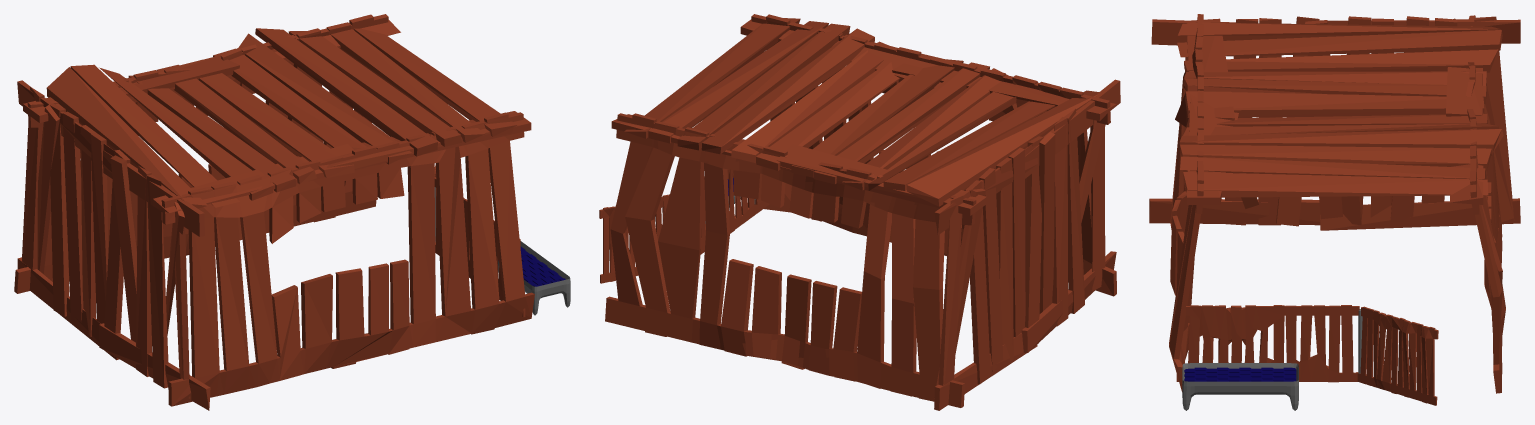
The model's file is Horse Barn.fbx.
3 views of the same model, side by side, from view 1: azimuth 30°, elevation 25°; view 2: azimuth 150°, elevation 25°; view 3: azimuth 270°, elevation 25° (orthographic).
Visible parts, largest first — view 1: Cube.003; view 2: Cube.003; view 3: Cube.003.
Part boxes in pixels (bbox=[...]): Cube.003: bbox=[14, 14, 570, 410]; Cube.003: bbox=[599, 14, 1120, 410]; Cube.003: bbox=[1149, 14, 1520, 410].
Size of the model in its own units: 7.55 by 3.92 by 5.99.
